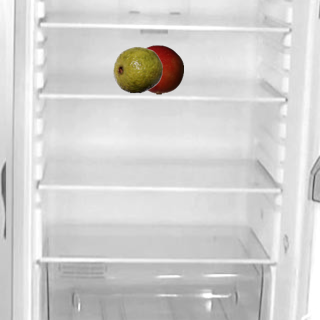Apple Braeburn: (133, 44, 183, 94)
Guava: (112, 44, 162, 94)
